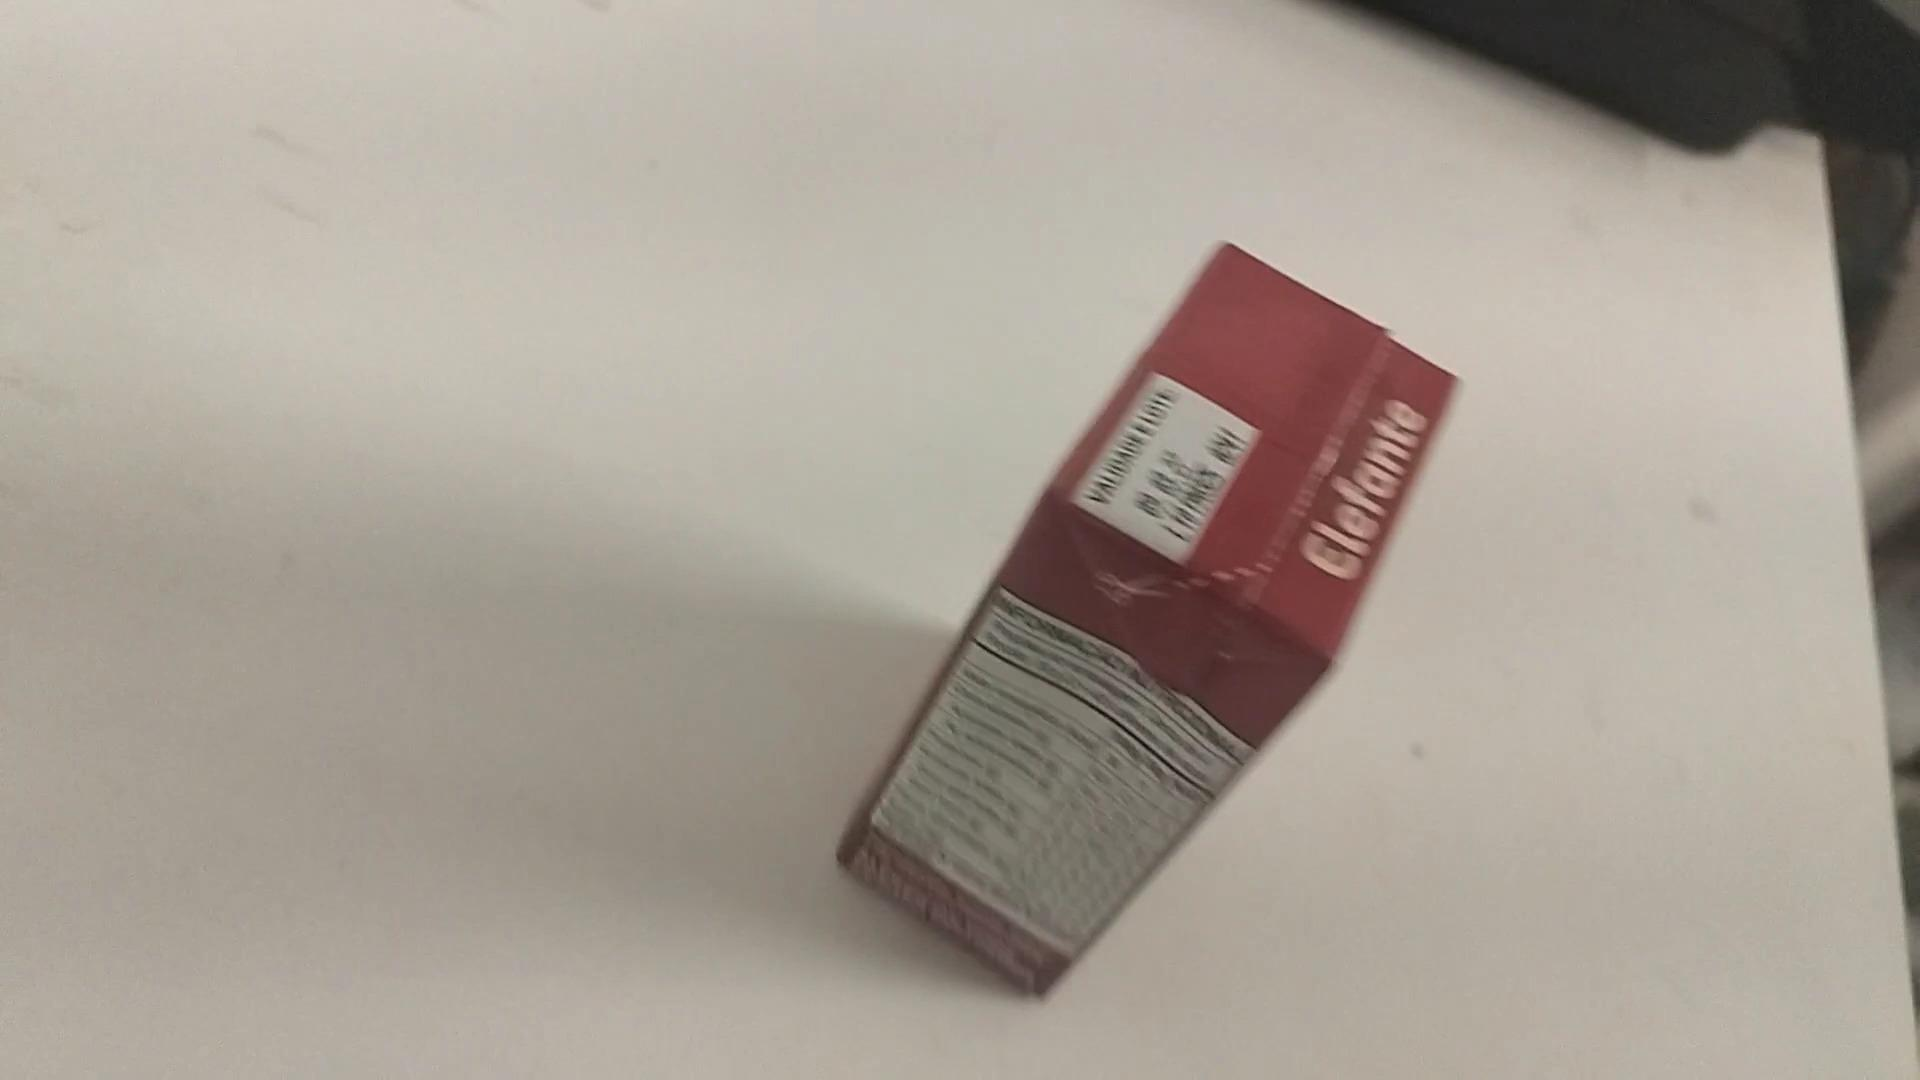tomate: (766, 212, 1502, 1007)
